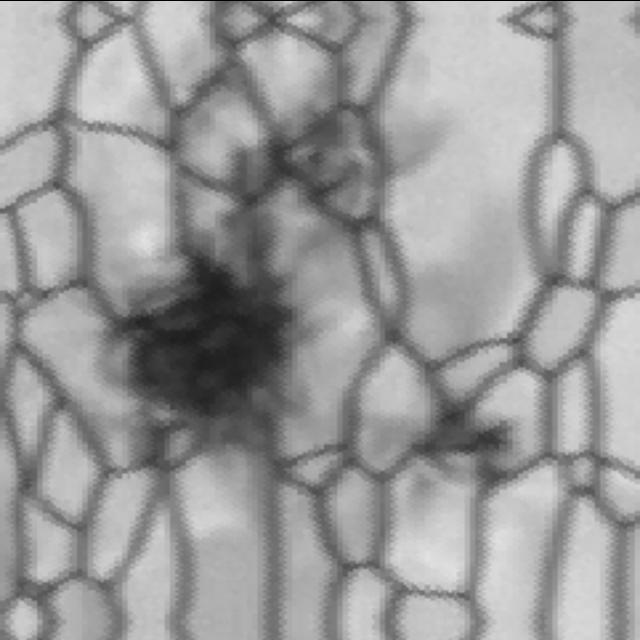good_void: (89, 230, 327, 474), (219, 96, 395, 251), (404, 382, 530, 491)
